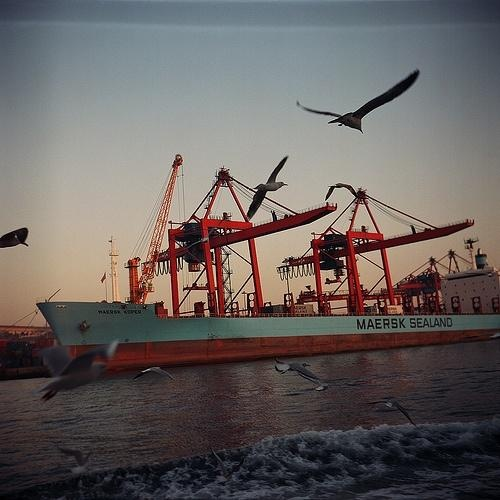bird: (298, 68, 422, 133), (40, 337, 121, 401), (248, 155, 291, 222), (369, 398, 415, 426), (211, 447, 249, 479), (274, 362, 320, 385), (60, 446, 94, 477), (133, 364, 176, 383), (324, 182, 358, 204)
boat: (35, 153, 500, 375)
